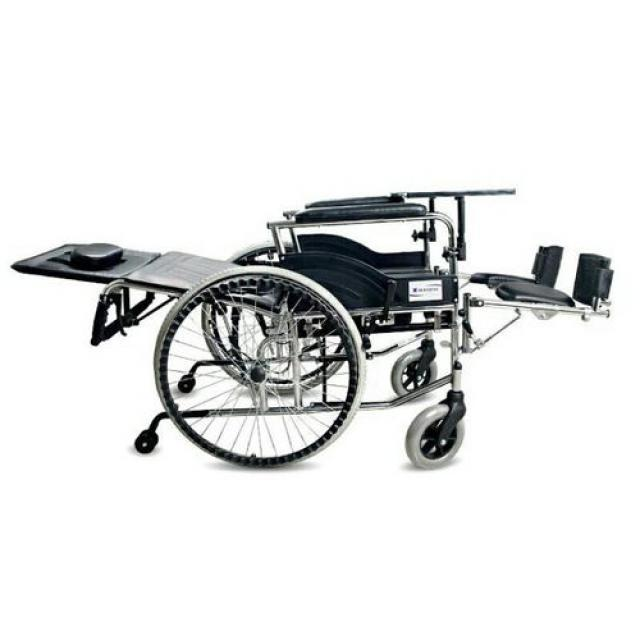wheelchair: (5, 156, 622, 470)
